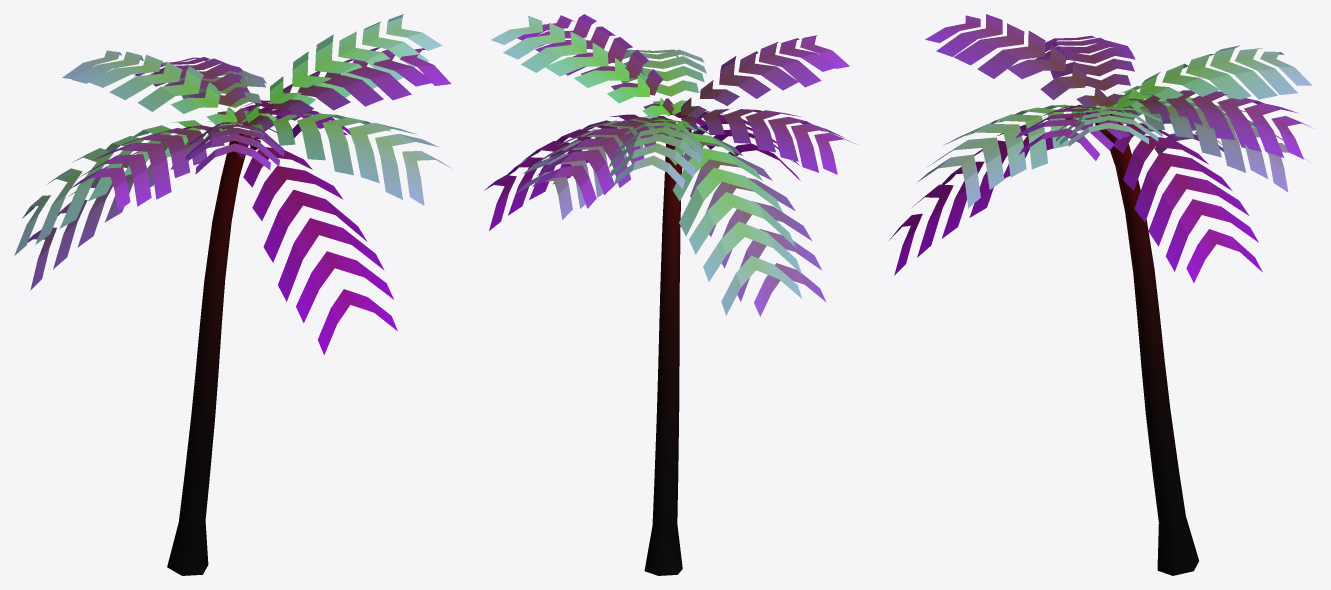
Rendered from Palm3_LOD1.fbx.
3 views of the same model, side by side, from view 1: azimuth 30°, elevation 25°; view 2: azimuth 150°, elevation 25°; view 3: azimuth 270°, elevation 25° (orthographic). The views are drawn at different scales.
Visible parts, largest first — view 1: Palm3_Lite; view 2: Palm3_Lite; view 3: Palm3_Lite.
Boxes of the visible parts, x1,y1,x2,y2 form: Palm3_Lite: (14, 14, 452, 575); Palm3_Lite: (484, 14, 857, 575); Palm3_Lite: (889, 14, 1314, 575).
Bounding box in the file's own units: 8.54 × 11.55 × 8.45.
